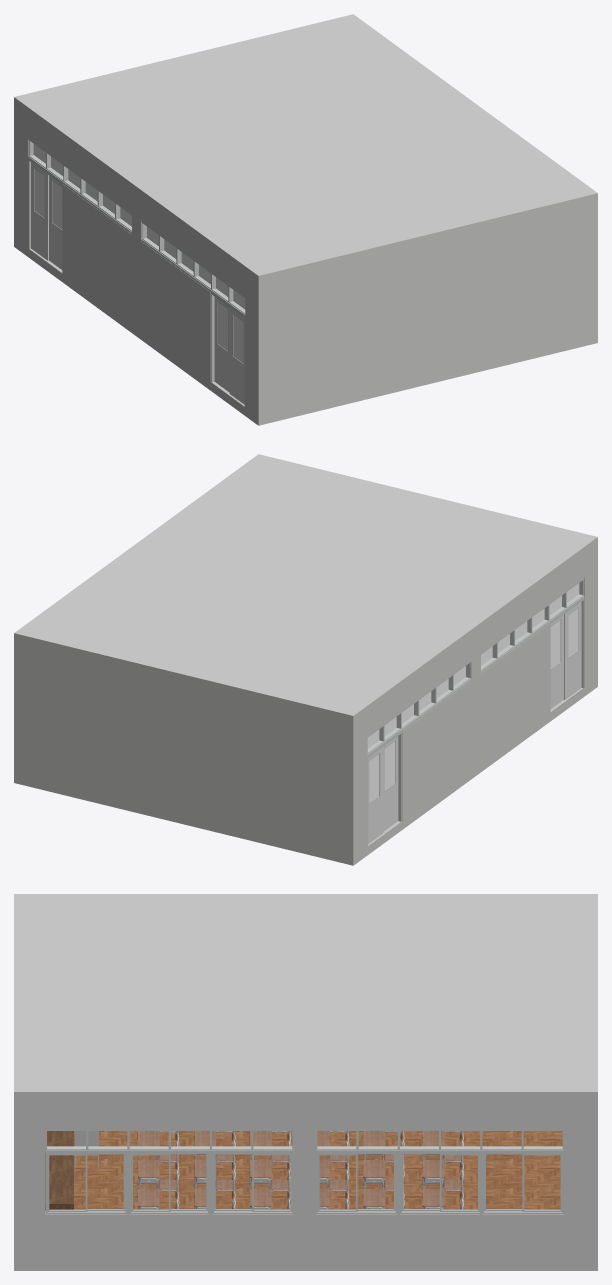
The picture shows the model from 3 angles, top to bottom: view 1: azimuth 30°, elevation 25°; view 2: azimuth 150°, elevation 25°; view 3: azimuth 270°, elevation 25°; orthographic projection. The views are drawn at different scales.
Visible parts, largest first — view 1: classroom_24, classroom_51, classroom_49, classroom_60, classroom_34, classroom_30, classroom_32, classroom_36; view 2: classroom_24, classroom_49, classroom_51, classroom_60, classroom_30, classroom_34, classroom_36, classroom_32; view 3: classroom_24, classroom_21, classroom_57, classroom_39, classroom_681, classroom_273, classroom_248, classroom_258, classroom_268, classroom_253, classroom_218, classroom_223 (+1 smaller).
Boxes of the visible parts, box(x1,y1,x2,y2) form: classroom_24: box(14, 14, 597, 425); classroom_51: box(141, 221, 245, 406); classroom_49: box(28, 138, 131, 273); classroom_60: box(33, 144, 245, 309); classroom_34: box(31, 162, 48, 260); classroom_30: box(229, 308, 244, 404); classroom_32: box(214, 297, 229, 392); classroom_36: box(49, 175, 62, 269); classroom_24: box(14, 454, 597, 865); classroom_49: box(367, 660, 471, 846); classroom_51: box(481, 577, 584, 712); classroom_60: box(367, 583, 579, 748); classroom_30: box(564, 602, 581, 699); classroom_34: box(368, 747, 383, 843); classroom_36: box(383, 736, 398, 831); classroom_32: box(550, 615, 563, 708); classroom_24: box(14, 894, 597, 1270); classroom_21: box(74, 1131, 562, 1209); classroom_57: box(45, 1127, 293, 1214); classroom_39: box(316, 1127, 563, 1214); classroom_681: box(45, 1131, 73, 1204); classroom_273: box(422, 1160, 462, 1190); classroom_248: box(138, 1160, 177, 1190); classroom_258: box(250, 1160, 289, 1190); classroom_268: box(363, 1160, 393, 1190); classroom_253: box(194, 1160, 234, 1190); classroom_218: box(138, 1131, 177, 1161); classroom_223: box(194, 1131, 234, 1161).
Size of the model in its own units: 8.31 by 3.51 by 10.37.
22 materials, 5 textured.
